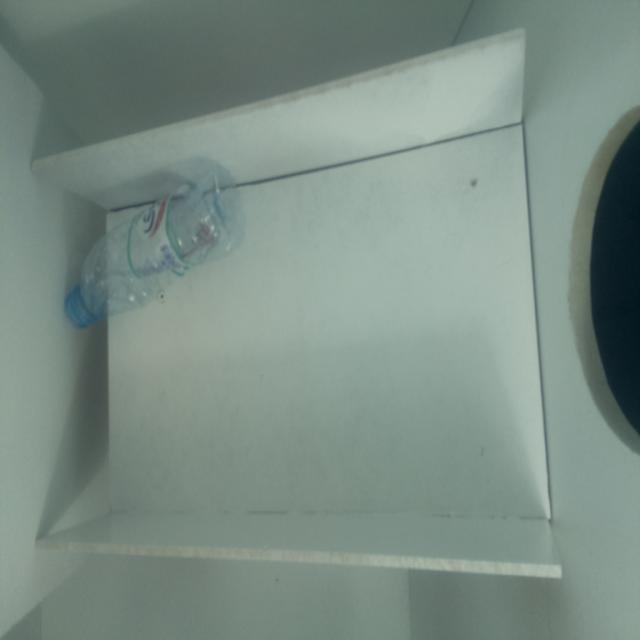Anorganik: (59, 166, 252, 332)
